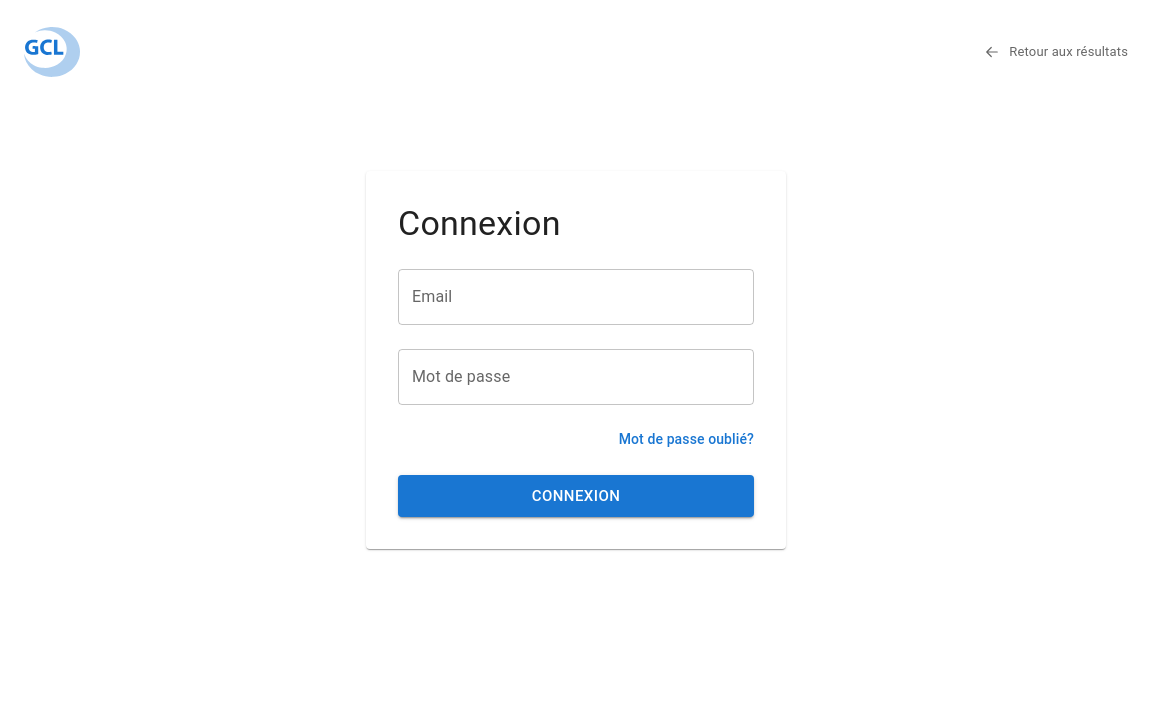
Test: login › requires both credentials (none)
What coordinates should you click on to do the following:
click the button "Connexion"
I would click on:
 (576, 496)
Its box is [398,475,754,517].
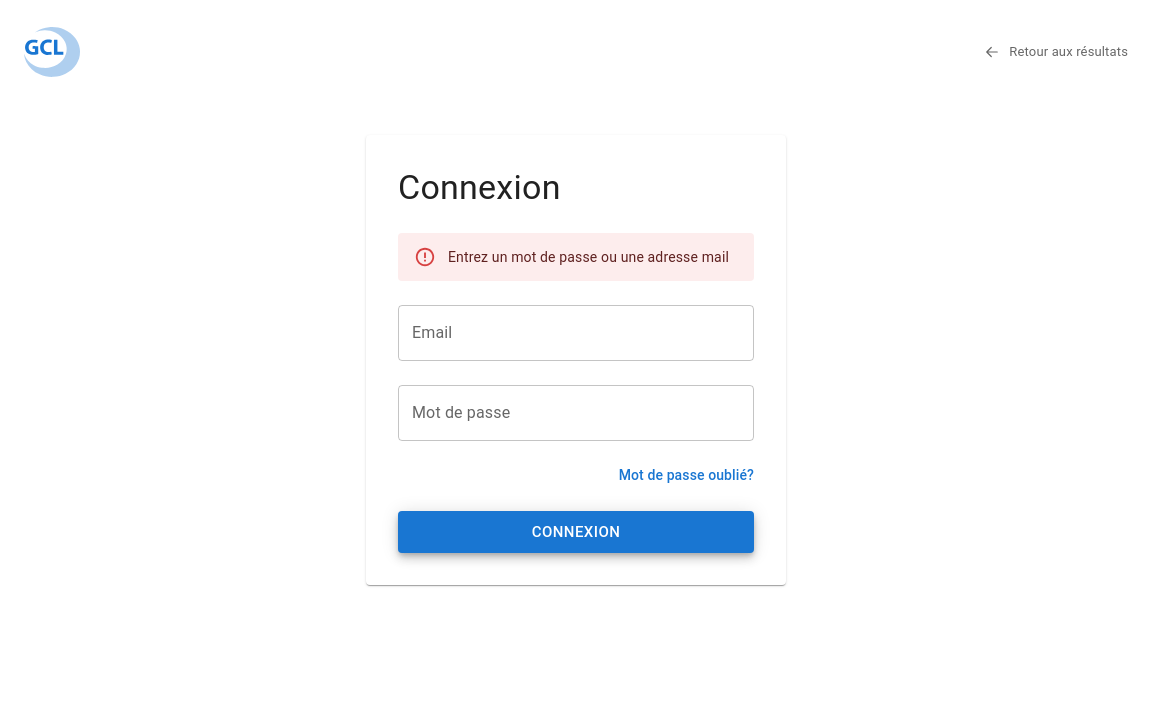
Expected: the message reads "Entrez un mot de passe ou une adresse mail", [448,249,729,265]
